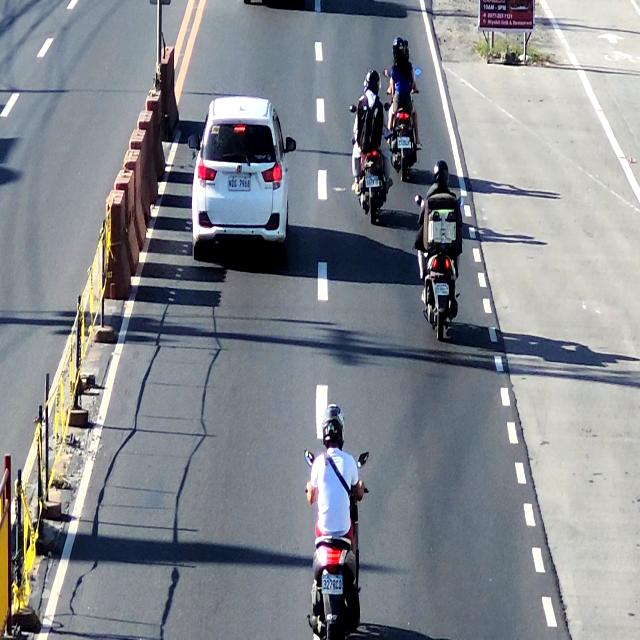Car: (190, 96, 288, 254)
License-Plate: (320, 566, 343, 598), (226, 173, 253, 196), (433, 279, 451, 299), (395, 130, 412, 150), (364, 172, 382, 190)
Motorcycle: (309, 410, 365, 639), (422, 155, 467, 349), (353, 68, 390, 227), (388, 34, 421, 181)
